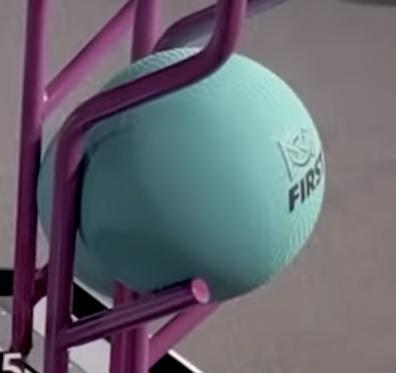algae: (40, 48, 324, 305)
